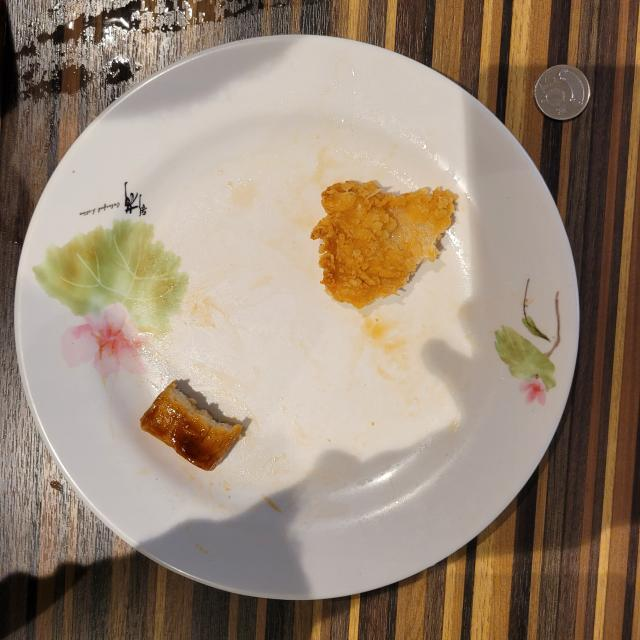coin: (534, 65, 590, 120)
creamy tofu: (140, 381, 242, 470)
fried chicken cutlet: (311, 181, 458, 309)
